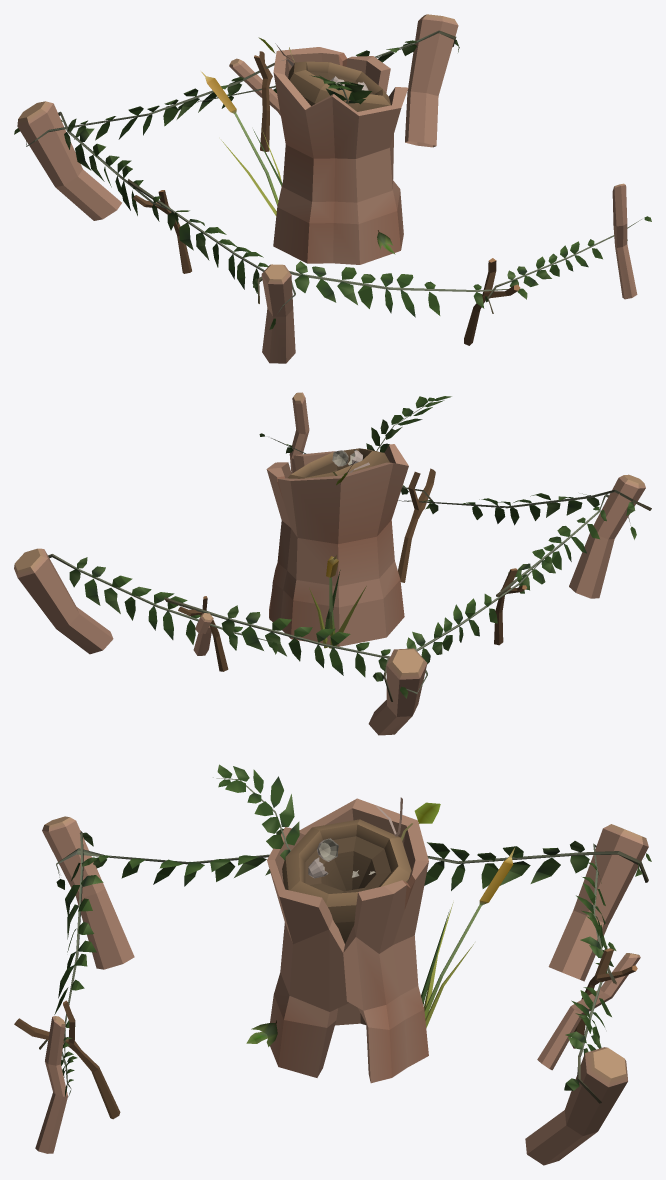
3 renders of one model, top to bottom at view 1: azimuth 30°, elevation 25°; view 2: azimuth 150°, elevation 25°; view 3: azimuth 270°, elevation 25°, orthographic. The views are drawn at different scales.
Parts seen in each view (by area): view 1: nestStage_9; view 2: nestStage_9; view 3: nestStage_9.
Boxes of the visible parts, <box> form: nestStage_9: <box>14,14,651,363</box>; nestStage_9: <box>14,392,651,735</box>; nestStage_9: <box>14,764,651,1165</box>.
Size of the model in its own units: 4.58 by 2.54 by 4.94.
